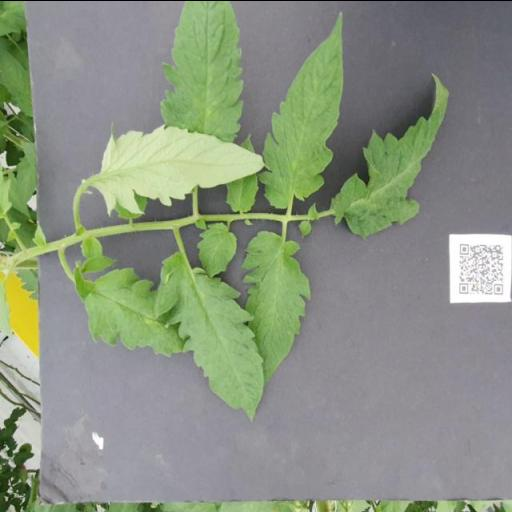Healthy: (330, 70, 450, 238), (153, 250, 262, 422), (258, 10, 344, 208), (158, 0, 244, 143), (74, 254, 182, 357), (240, 230, 311, 382), (196, 221, 237, 276)
